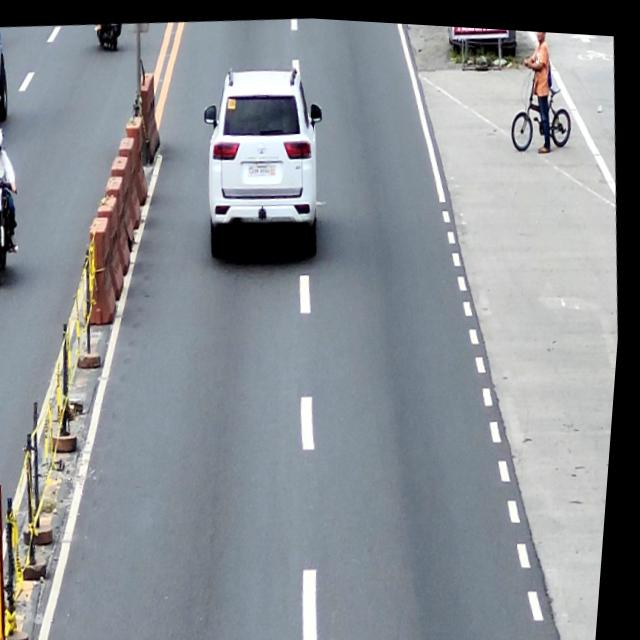Bicycle: (506, 51, 578, 148)
Car: (193, 59, 339, 263), (0, 26, 15, 140)
License-Plate: (254, 158, 274, 174)
Motorcycle: (0, 175, 30, 291)
